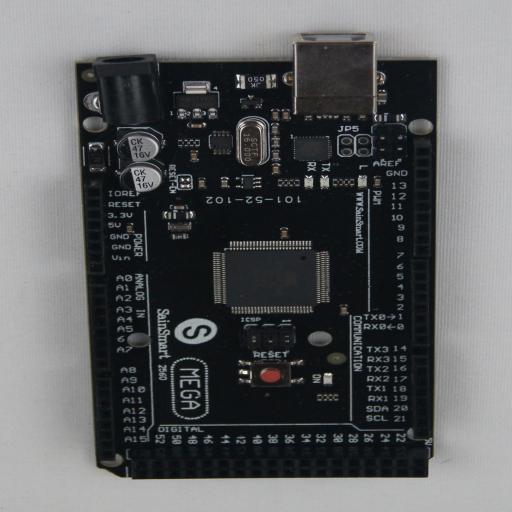Arduino Mega 2560 -Black-: (76, 34, 437, 480)
